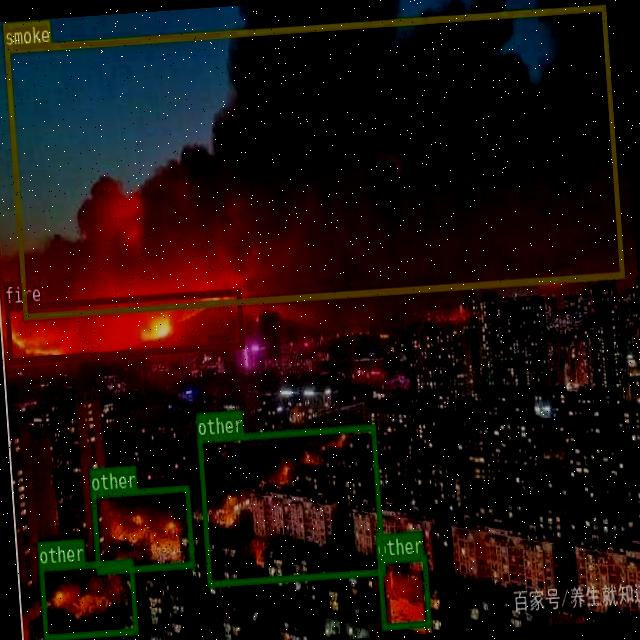fire: (3, 288, 244, 362)
smoke: (4, 4, 624, 318)
